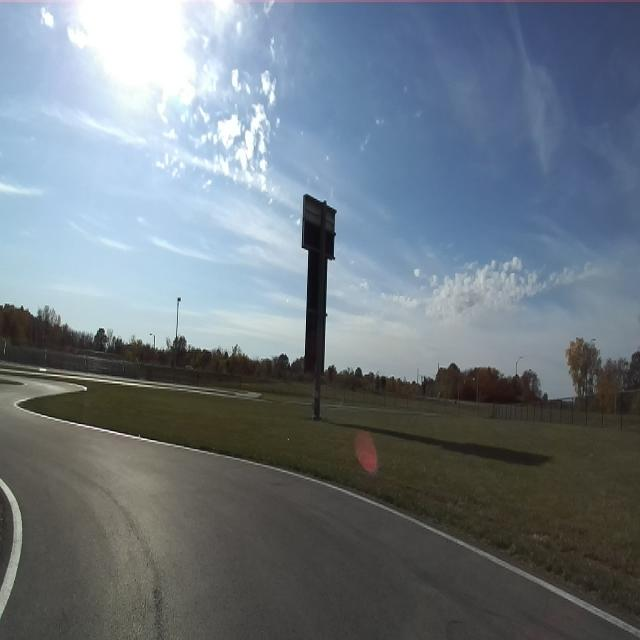white-line: (19, 406, 640, 639), (0, 478, 22, 619)
